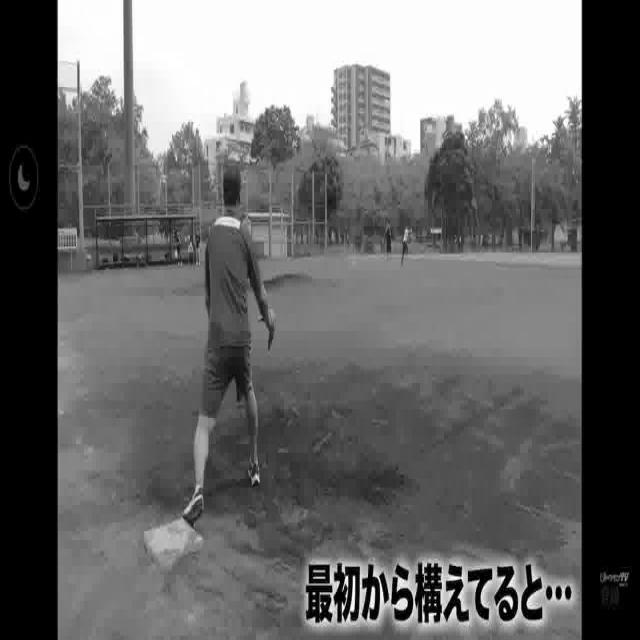base: (144, 518, 201, 571)
baseball_glove: (260, 312, 280, 343)
shoe: (186, 486, 205, 521), (249, 458, 260, 495)
